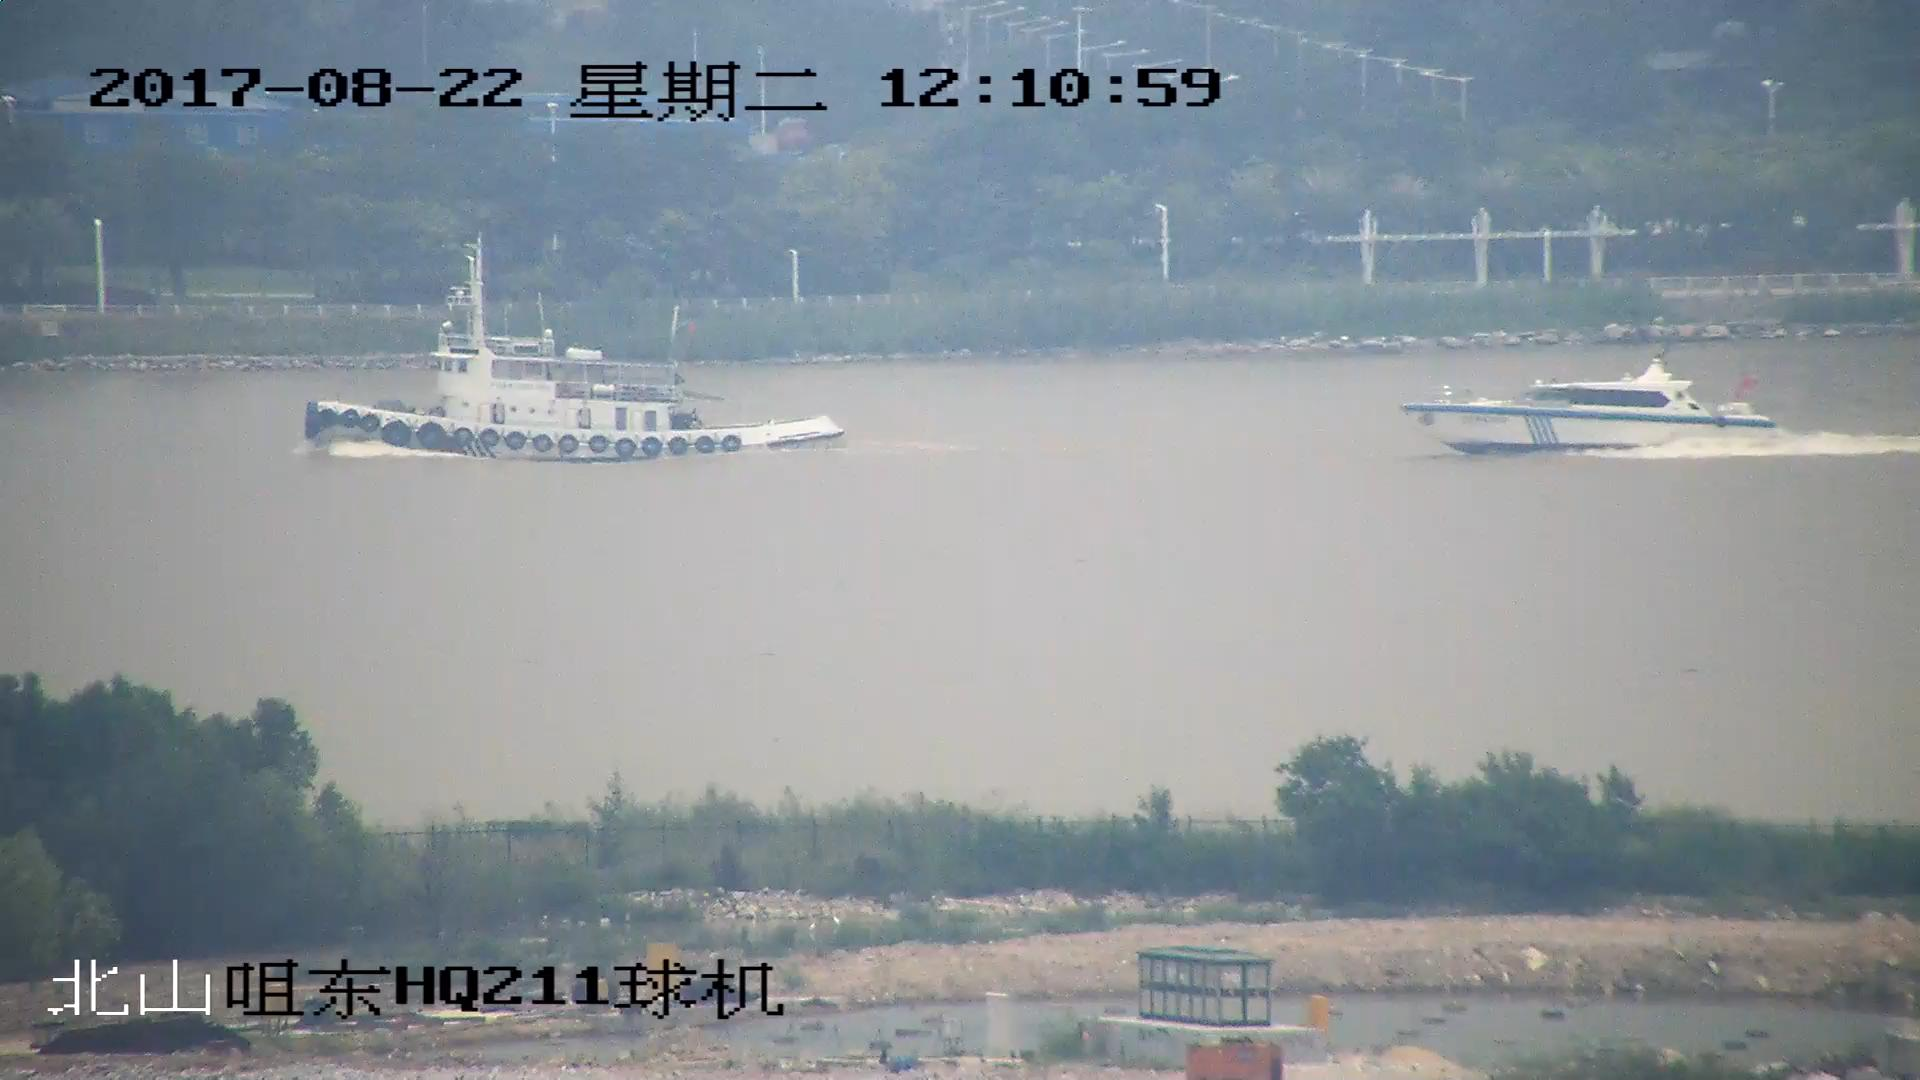passenger ship: (302, 241, 846, 455), (1406, 365, 1774, 463)
